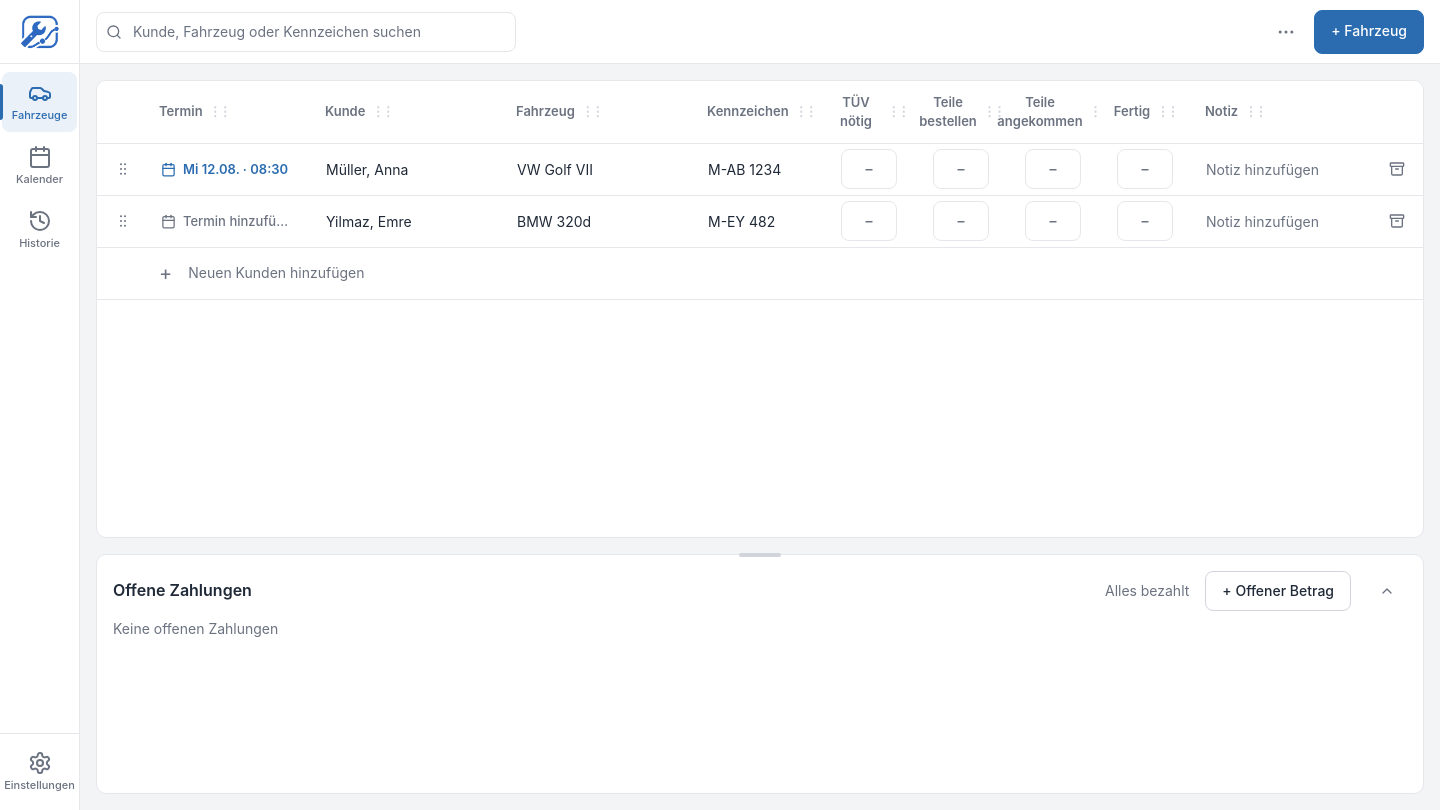
Test case: Fahrzeugtermine › interpretiert das Datum immer deutsch und nicht als US-Monat/Tag
Expected: the 1st field showing "Müller, Anna" is shown, [317,149,496,189]
Click the button with aria-label "Termin für Yilmaz, Emre": [228, 221] box [151,201,305,241]
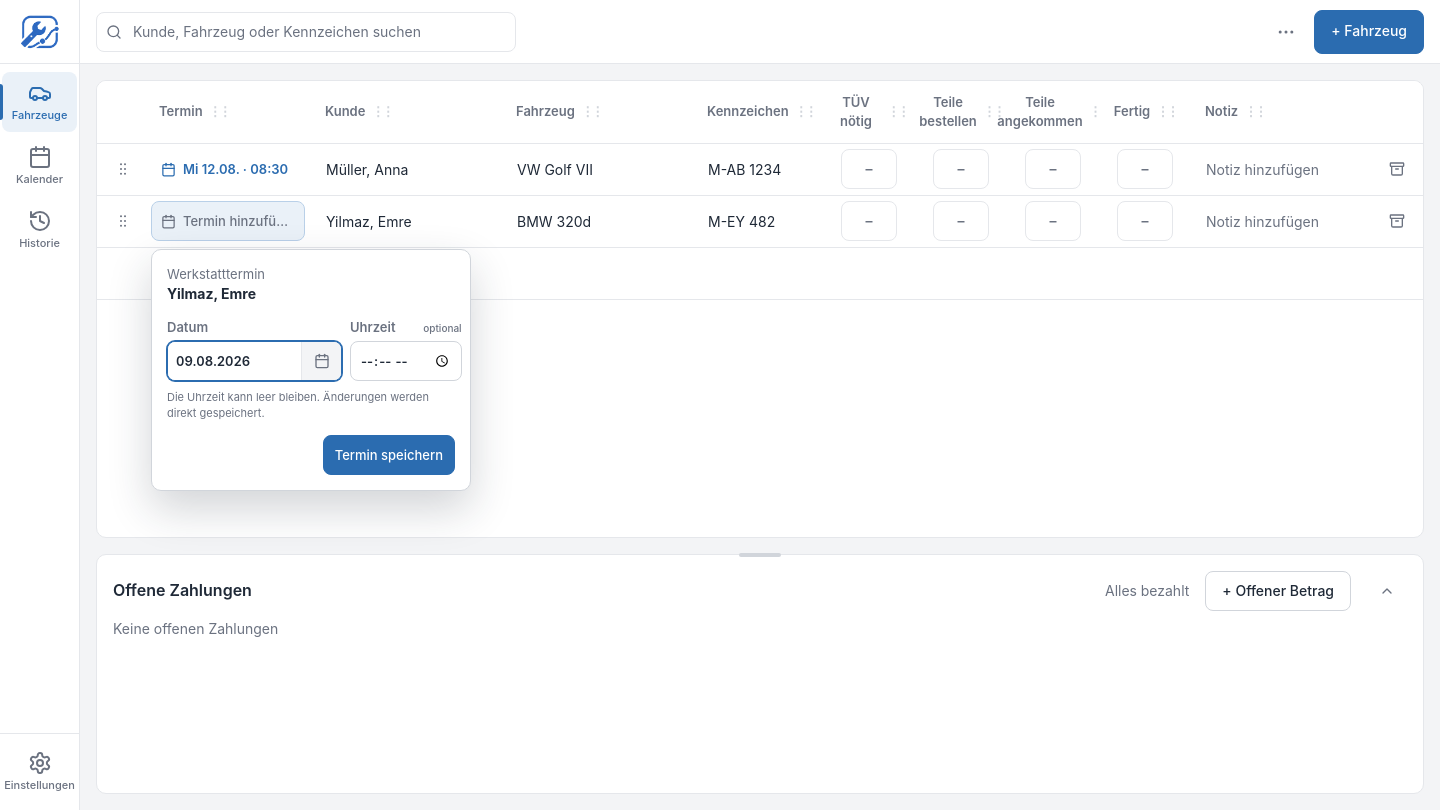
Replace the text in the field labelled "Datum" with "09/11/2026": [234, 361] box [168,342,301,380]
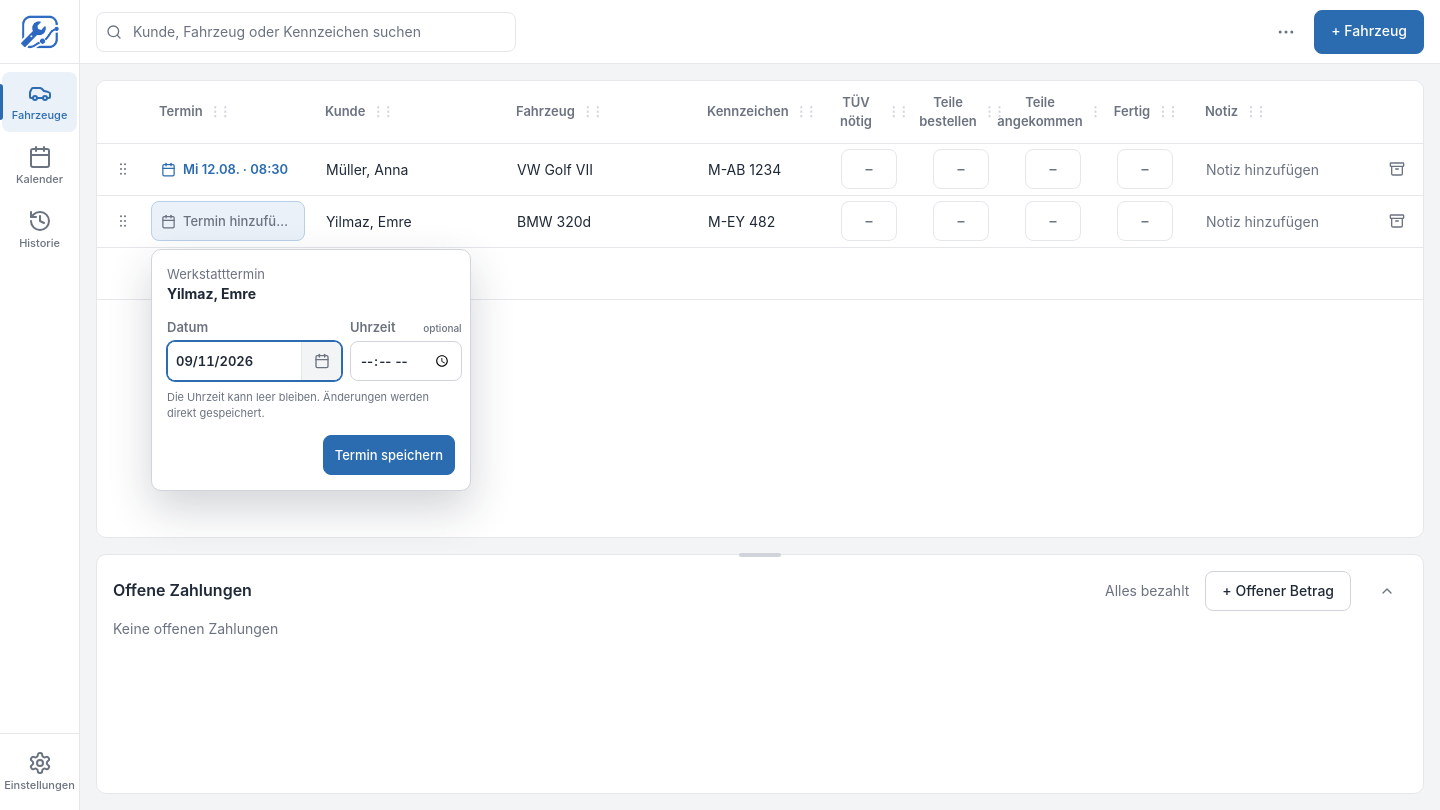
Leave the field labelled "Datum", box [168,342,301,380]
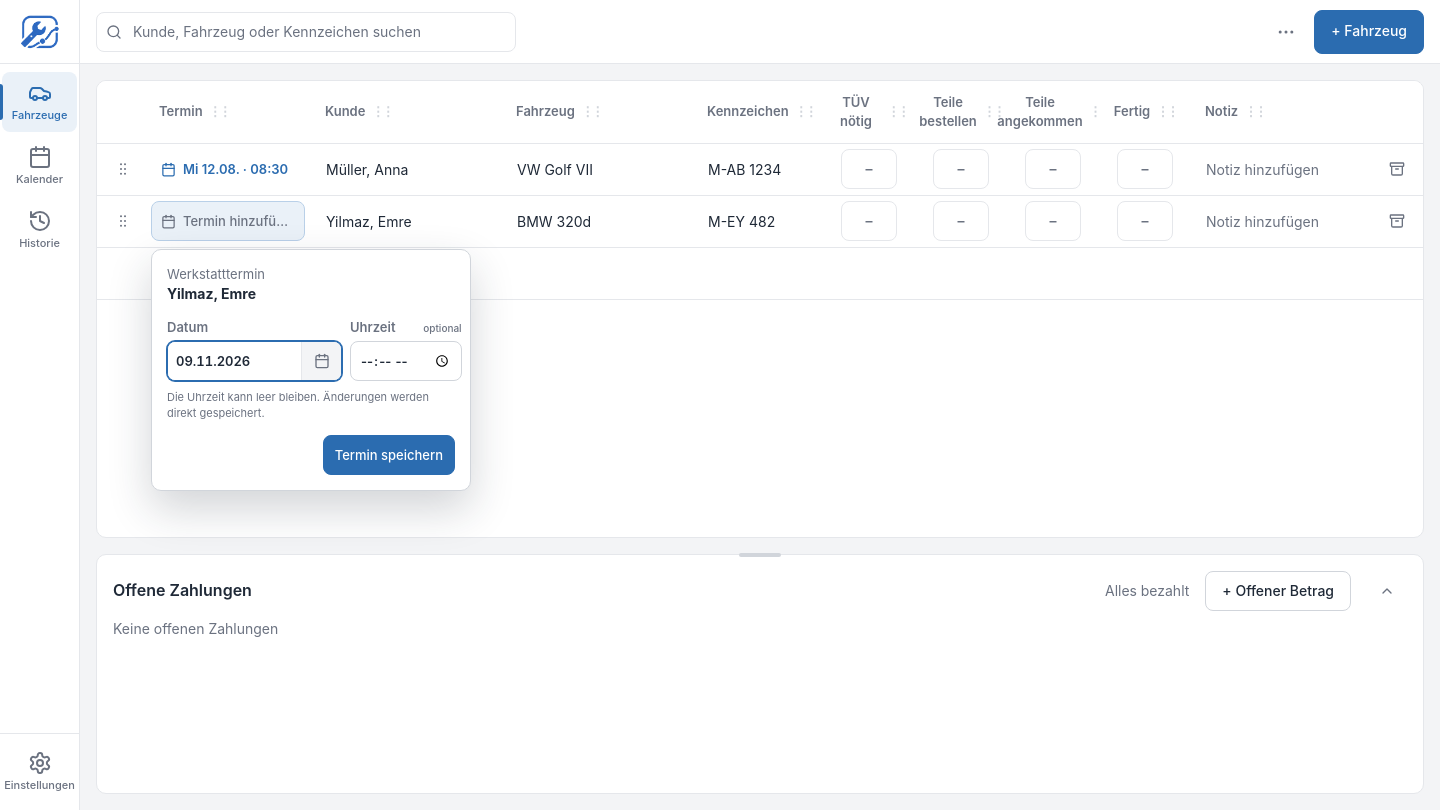
Expected: the field labelled "Datum" holds "09.11.2026", [168,342,301,380]
In the time field labelled "Uhrzeit": [406, 361] box [350,341,462,381], type "08:00"
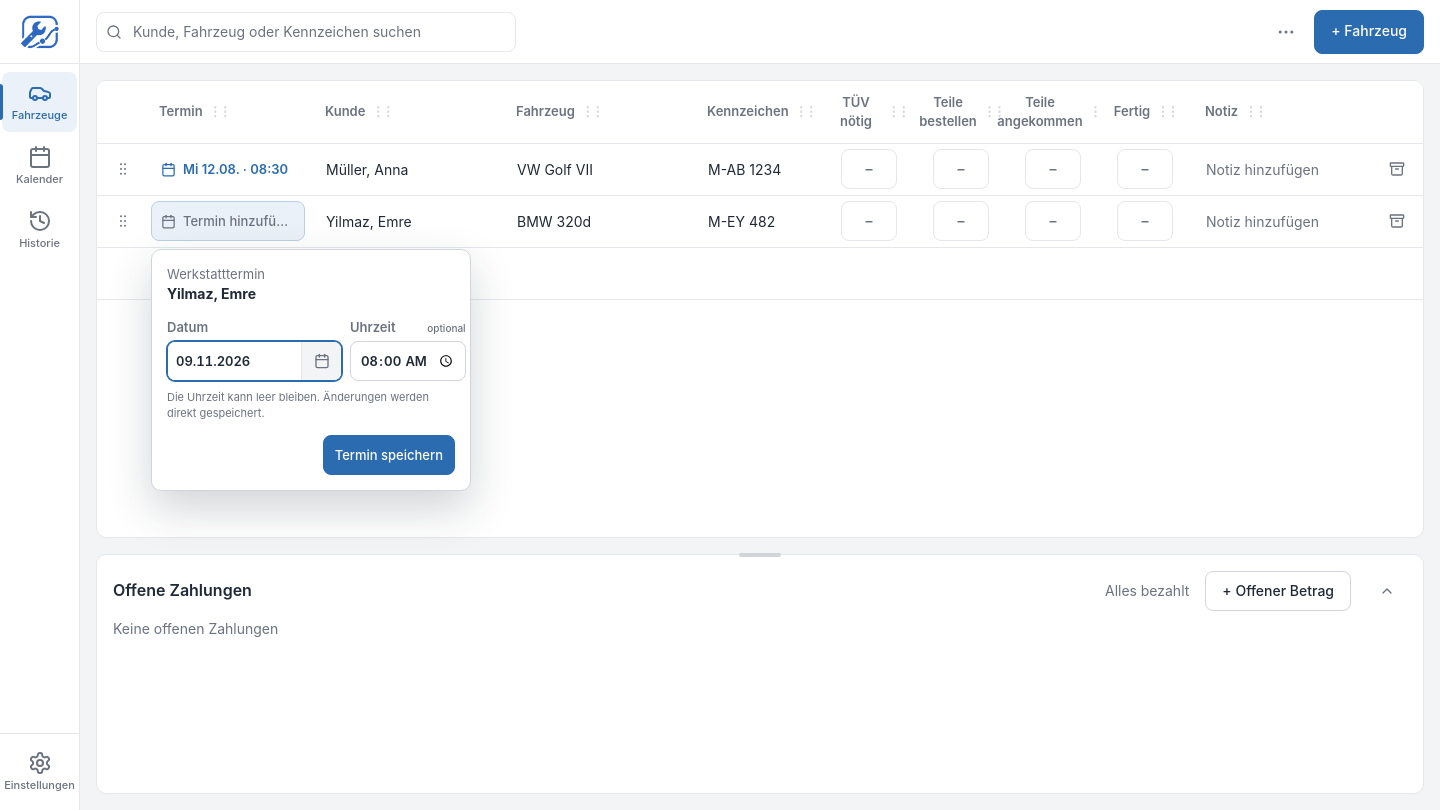
Click the button "Termin speichern": [389, 455] box [323,435,455,475]
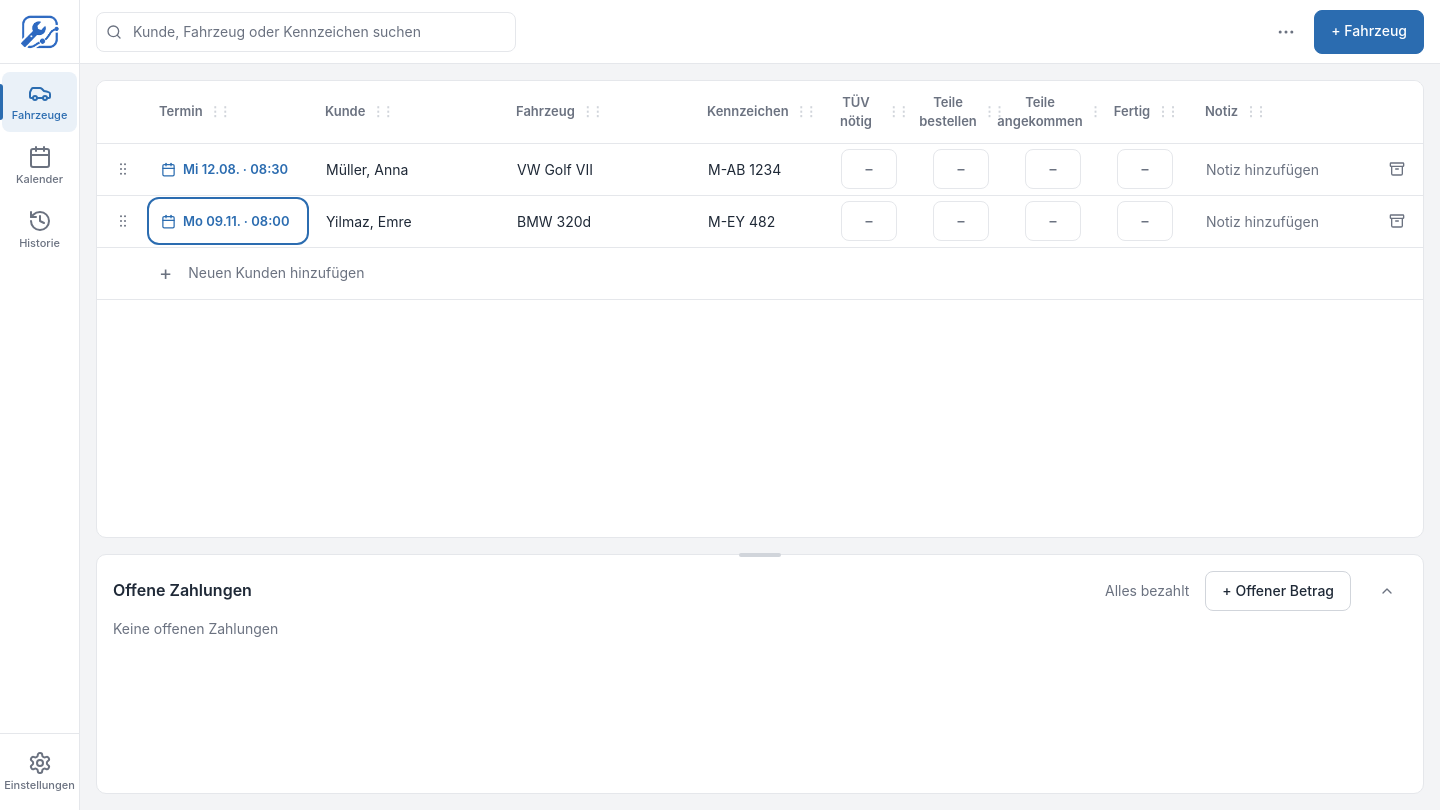
Expected: the button with aria-label "Termin für Yilmaz, Emre" reads "Mo 09.11. · 08:00", [151,201,305,241]
